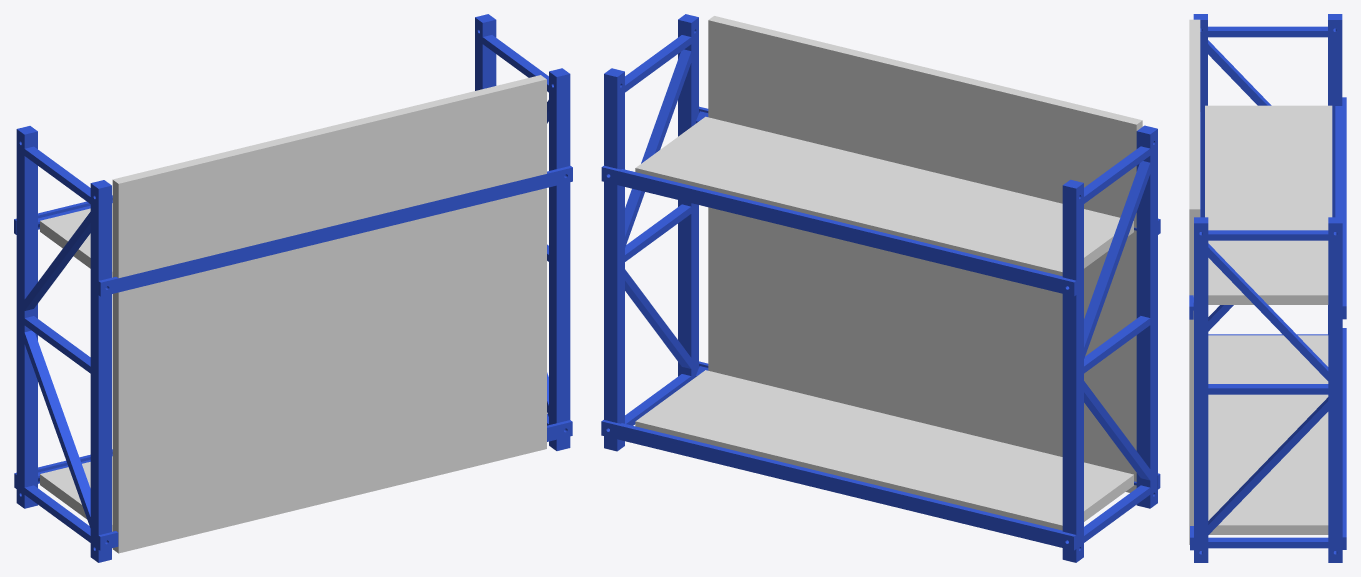
Rendered from rack.dae.
3 renders of one model, left to right at view 1: azimuth 30°, elevation 25°; view 2: azimuth 150°, elevation 25°; view 3: azimuth 270°, elevation 25°, orthographic. The views are drawn at different scales.
Visible parts, largest first — view 1: Cube.002, Rack, Cube.001, Cube; view 2: Cube.002, Rack, Cube, Cube.001; view 3: Rack, Cube.001, Cube, Cube.002.
Part boxes in pixels (left/top/right/bottom): Cube.002: left=112, top=75, right=546, bottom=553; Rack: left=14, top=14, right=572, bottom=562; Cube.001: left=40, top=203, right=112, bottom=277; Cube: left=40, top=456, right=112, bottom=531; Cube.002: left=708, top=16, right=1142, bottom=492; Rack: left=601, top=14, right=1160, bottom=562; Cube: left=635, top=370, right=1133, bottom=530; Cube.001: left=635, top=116, right=1133, bottom=276; Rack: left=1189, top=14, right=1346, bottom=562; Cube.001: left=1205, top=105, right=1332, bottom=304; Cube: left=1208, top=335, right=1328, bottom=534; Cube.002: left=1189, top=19, right=1200, bottom=544.
Size of the model in its own units: 0.3502 by 0.1111 by 0.2669.
